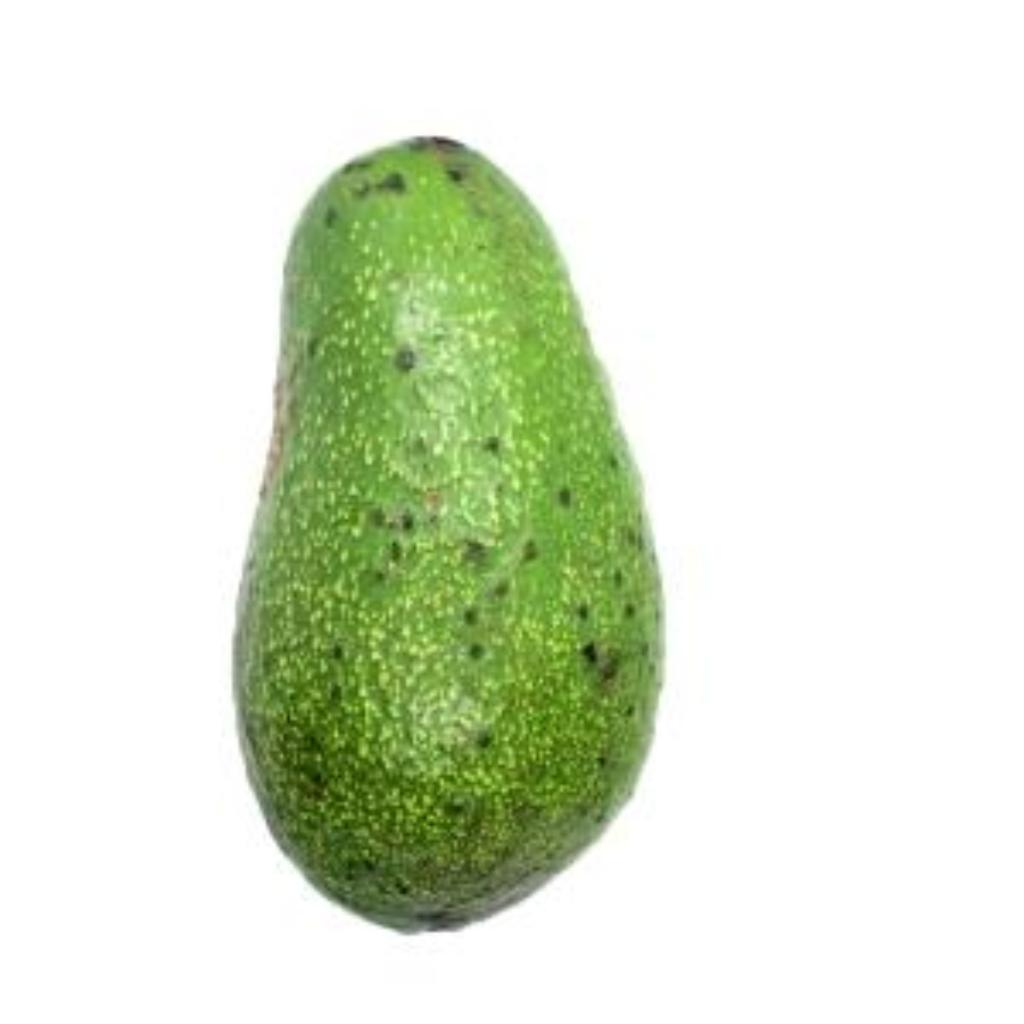cercospora_spot: (222, 123, 714, 935)
